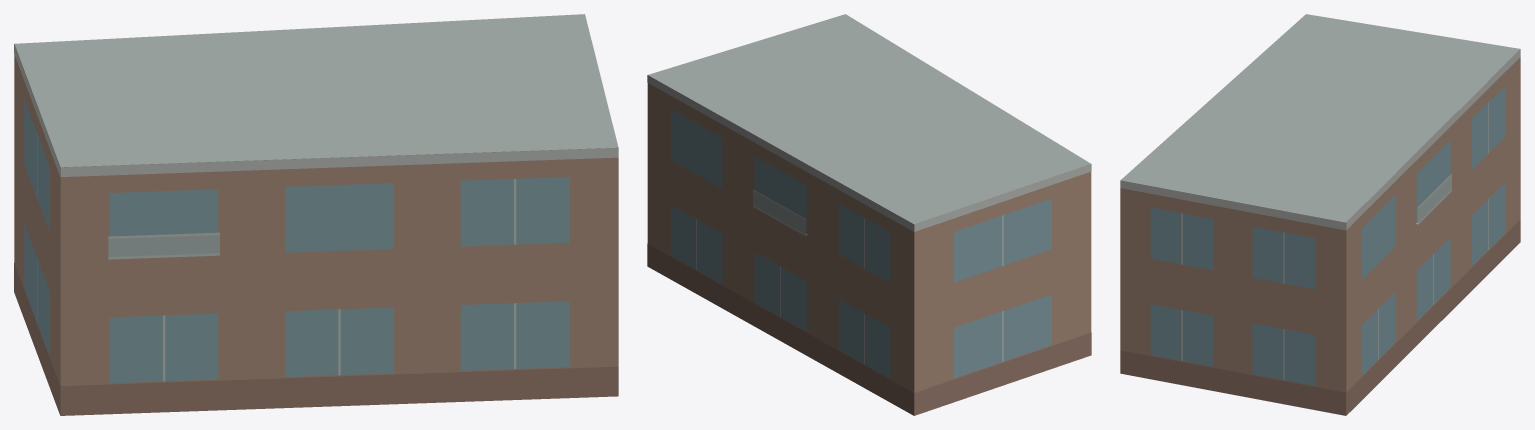
The model's file is survey-upis-32663356.glb.
3 renders of one model, left to right at view 1: azimuth 30°, elevation 25°; view 2: azimuth 150°, elevation 25°; view 3: azimuth 270°, elevation 25°, orthographic. The views are drawn at different scales.
Parts seen in each view (by area): view 1: survey-upis-32663356.tmp; view 2: survey-upis-32663356.tmp; view 3: survey-upis-32663356.tmp.
Boxes of the visible parts, bbox=[...] form: survey-upis-32663356.tmp: bbox=[14, 14, 618, 415]; survey-upis-32663356.tmp: bbox=[647, 14, 1091, 415]; survey-upis-32663356.tmp: bbox=[1120, 14, 1520, 415].
Size of the model in its own units: 14.14 by 6.1 by 11.47.
